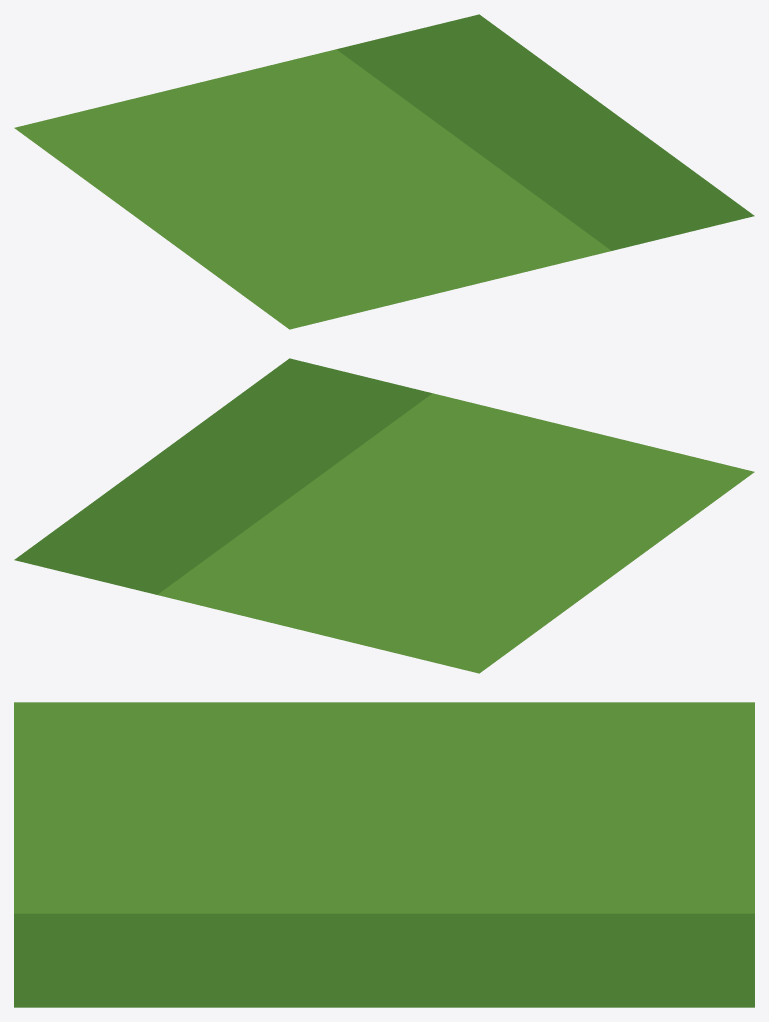
The model's file is pitch_f_8_3.glb.
3 renders of one model, top to bottom at view 1: azimuth 30°, elevation 25°; view 2: azimuth 150°, elevation 25°; view 3: azimuth 270°, elevation 25°, orthographic. The views are drawn at different scales.
Visible parts, largest first — view 1: pitch_f_8_3; view 2: pitch_f_8_3; view 3: pitch_f_8_3.
Boxes of the visible parts, x1,y1,x2,y2 form: pitch_f_8_3: (14,14,754,329); pitch_f_8_3: (14,358,754,673); pitch_f_8_3: (14,702,754,1007).
Size of the model in its own units: 9.75 by 0 by 10.
